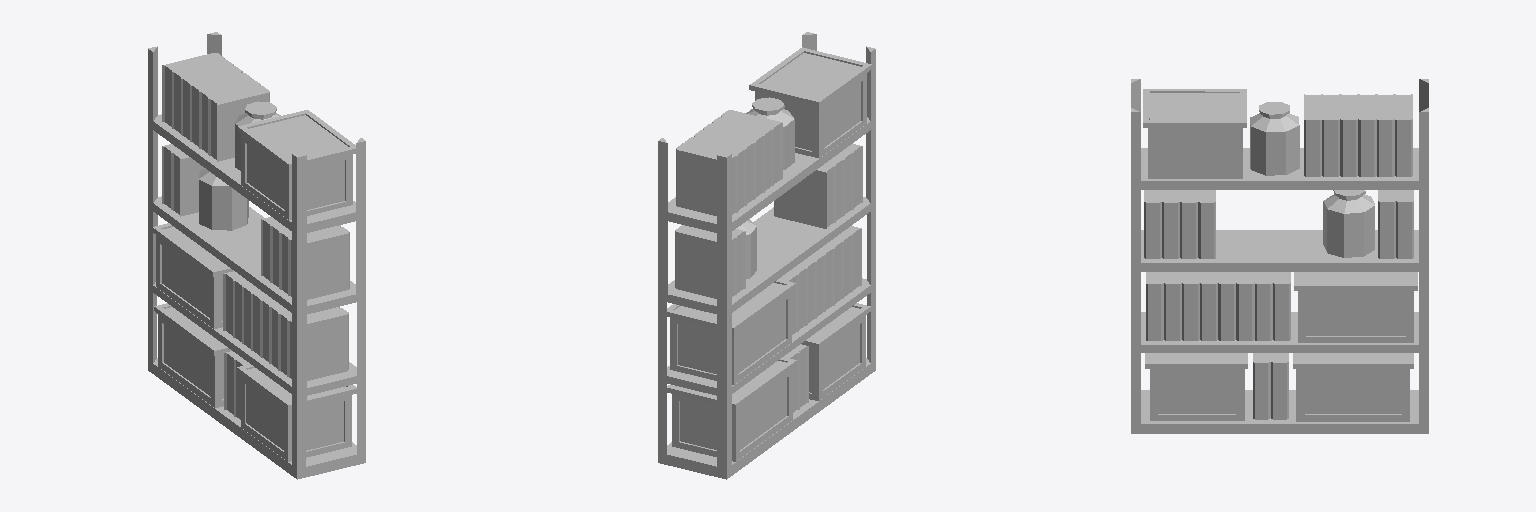
File: newshelf_3.obj
3 renders of one model, left to right at view 1: azimuth 30°, elevation 25°; view 2: azimuth 150°, elevation 25°; view 3: azimuth 270°, elevation 25°, orthographic.
Visible parts, largest first — view 1: shelflowpoly_comb2_finished FINISHED_SHELVES; view 2: shelflowpoly_comb2_finished FINISHED_SHELVES; view 3: shelflowpoly_comb2_finished FINISHED_SHELVES.
Part boxes in pixels (bbox=[...]): shelflowpoly_comb2_finished FINISHED_SHELVES: bbox=[148, 32, 365, 479]; shelflowpoly_comb2_finished FINISHED_SHELVES: bbox=[658, 32, 875, 479]; shelflowpoly_comb2_finished FINISHED_SHELVES: bbox=[1131, 79, 1428, 433].
Bounding box in the file's own units: 2.51 × 10.89 × 9.13.